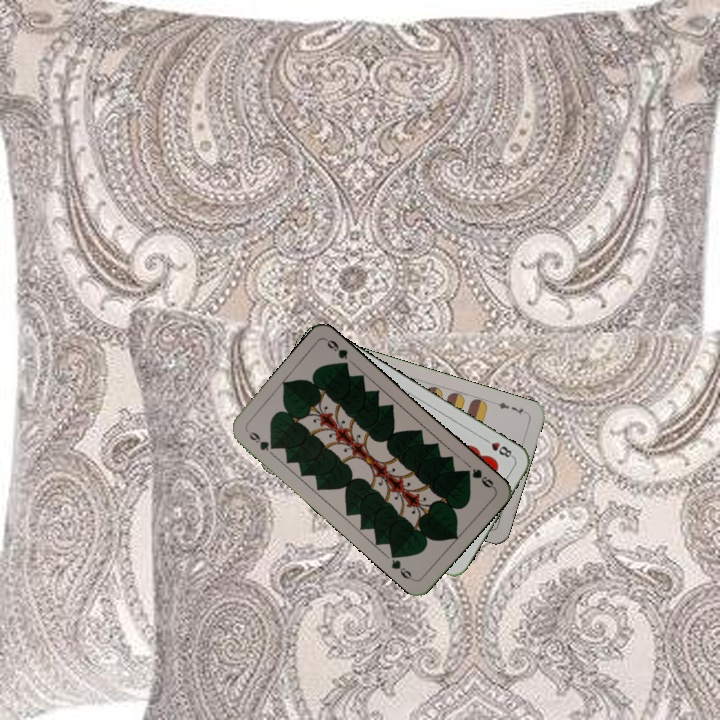E7: (494, 398, 530, 418)
G9: (460, 464, 497, 491), (245, 427, 278, 454)
H8: (479, 434, 516, 460)
